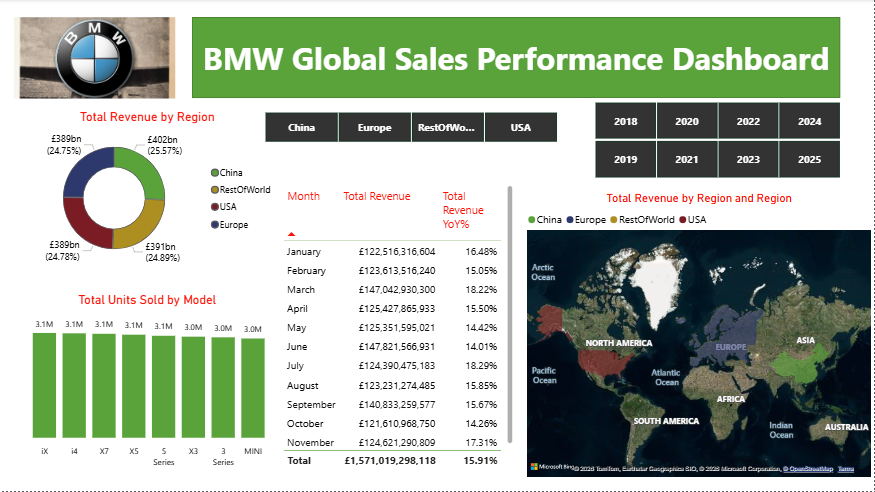

The page's visual inventory and layout, read from the dashboard file:
{"tool":"powerbi","page":{"name":"Page 1","canvas":[1280,720],"ordinal":0},"visuals":[{"type":"image","box":[20,14.3,235.7,142.9],"z":0},{"type":"columnChart","title":"Total Units Sold by Model","fields":{"Category":["bmw_global_sales_2018_2025.Model"],"Y":["Sum(bmw_global_sales_2018_2025.Units_Sold)"]},"box":[20,428.6,390,264.3],"z":1000},{"type":"tableEx","fields":{"Values":["bmw_global_sales_2018_2025.Date.Variation.Date Hierarchy.Month","Sum(bmw_global_sales_2018_2025.Revenue)","bmw_global_sales_2018_2025.Sum of Revenue YoY%"]},"box":[410,267.1,345.7,425.7],"z":2000},{"type":"donutChart","title":"Total Revenue by Region","fields":{"Category":["bmw_global_sales_2018_2025.Region"],"Y":["Sum(bmw_global_sales_2018_2025.Revenue_EUR)"]},"box":[20,161.4,390,238.6],"z":3000},{"type":"shape","box":[281.4,25.7,948.6,118.6],"z":4000},{"type":"filledMap","title":"Total  Revenue by Region and Region","fields":{"Category":["bmw_global_sales_2018_2025.Region"],"Series":["bmw_global_sales_2018_2025.Region"]},"box":[767.1,281.4,512.9,422.9],"z":5000},{"type":"slicer","fields":{"Values":["bmw_global_sales_2018_2025.Date.Variation.Date Hierarchy.Year"]},"box":[845.7,144.3,407.1,122.9],"z":6000},{"type":"slicer","fields":{"Values":["bmw_global_sales_2018_2025.Region"]},"box":[362.9,160,475.7,55.7],"z":7000}]}

Visuals, with their boxes in screenshot pixels (x1, y1, x2, y2), scaled from the page's 1280x720 canvas onto the 875x492 screenshot:
image: detection(14, 10, 175, 107)
"Total Units Sold by Model" columnChart: detection(14, 293, 280, 473)
tableEx - bmw_global_sales_2018_2025.Date.Variation.Date Hierarchy.Month x Sum(bmw_global_sales_2018_2025.Revenue): detection(280, 183, 517, 473)
"Total Revenue by Region" donutChart: detection(14, 110, 280, 273)
shape: detection(192, 18, 841, 99)
"Total  Revenue by Region and Region" filledMap: detection(524, 192, 874, 481)
slicer - bmw_global_sales_2018_2025.Date.Variation.Date Hierarchy.Year: detection(578, 99, 856, 183)
slicer - bmw_global_sales_2018_2025.Region: detection(248, 109, 573, 147)
